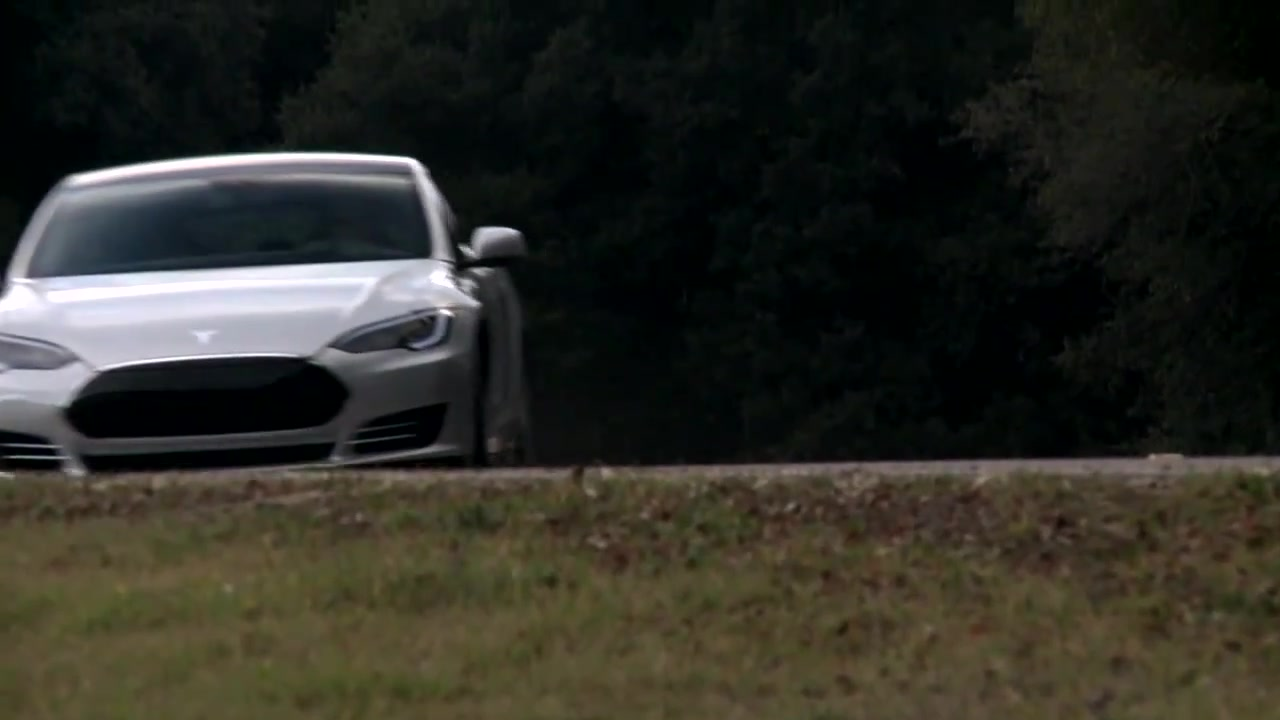car: (1, 155, 531, 473)
